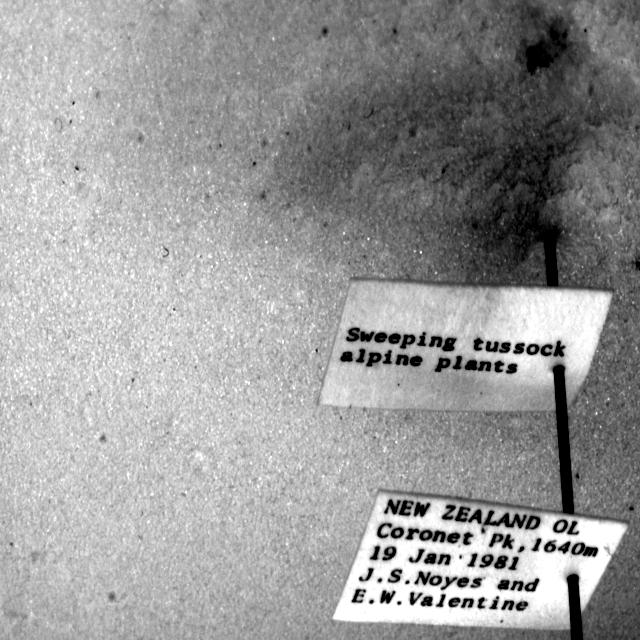typed_label: (334, 491, 626, 630), (319, 279, 612, 412)
